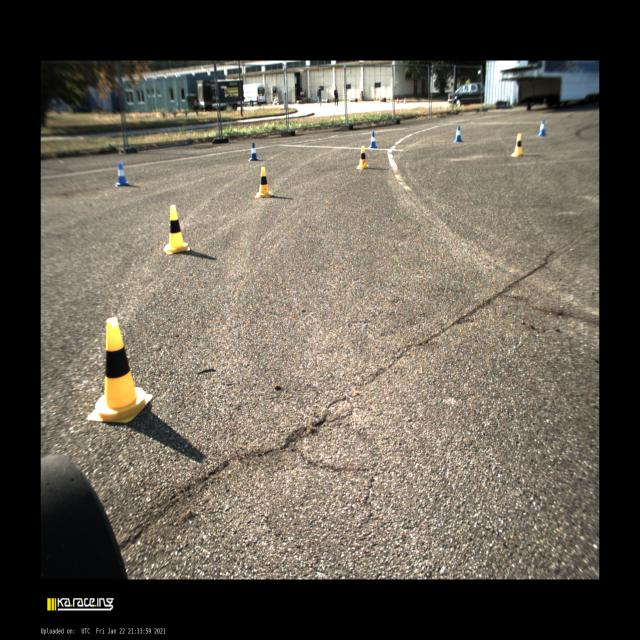blue_cone: (115, 162, 130, 187), (249, 142, 258, 161), (453, 126, 463, 142), (370, 131, 378, 148), (538, 120, 546, 136)
yellow_cone: (86, 317, 152, 422), (163, 205, 190, 255), (256, 167, 272, 198), (356, 146, 369, 169), (510, 134, 522, 156)
